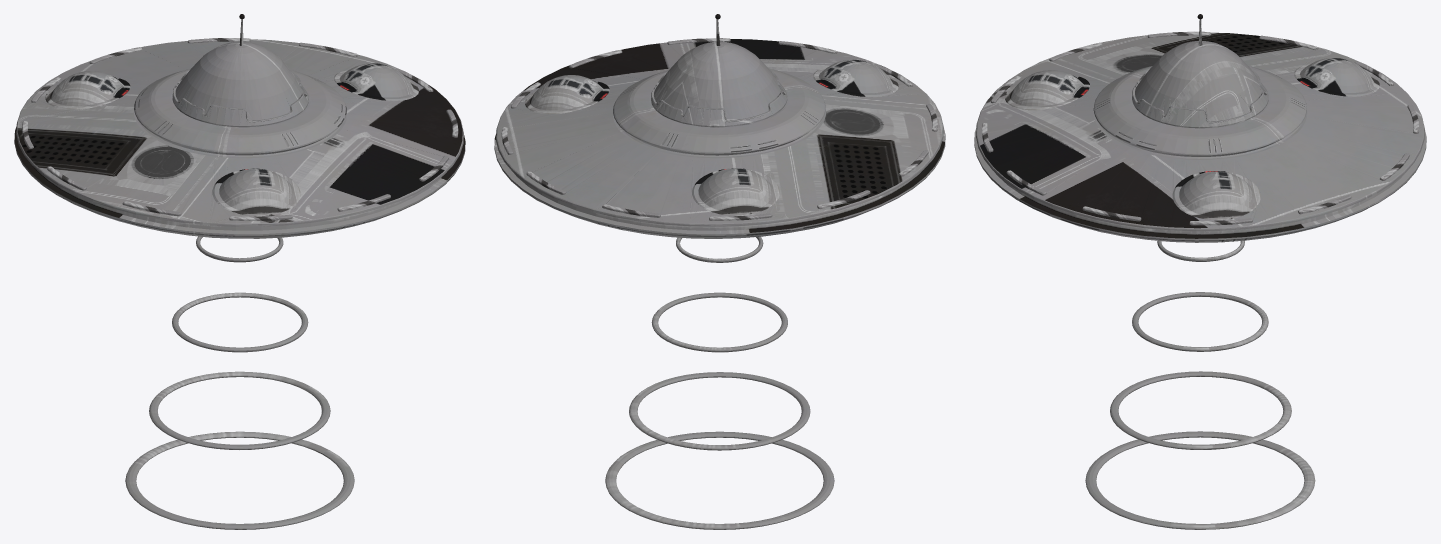
File: Flying saucer.gltf
3 renders of one model, left to right at view 1: azimuth 30°, elevation 25°; view 2: azimuth 150°, elevation 25°; view 3: azimuth 270°, elevation 25°, orthographic.
Size of the model in its own units: 0.9729 by 1.11 by 0.9725.
